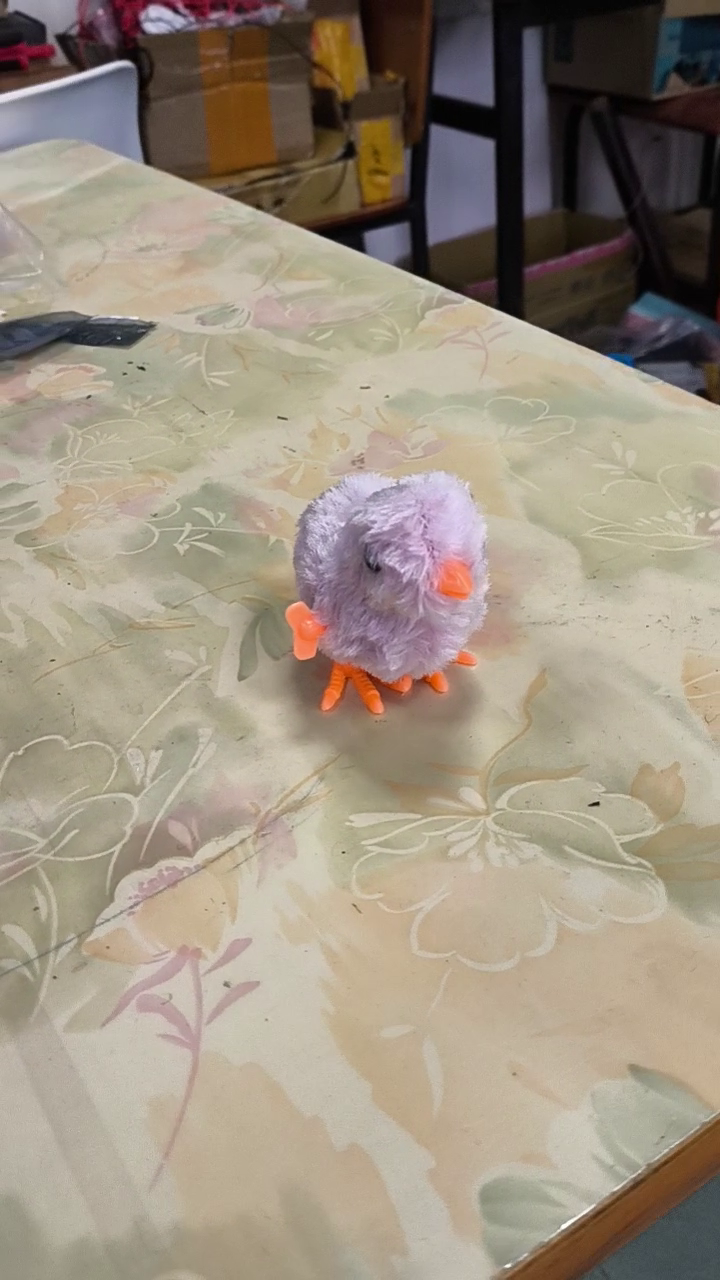pink chicken: (278, 464, 502, 723)
